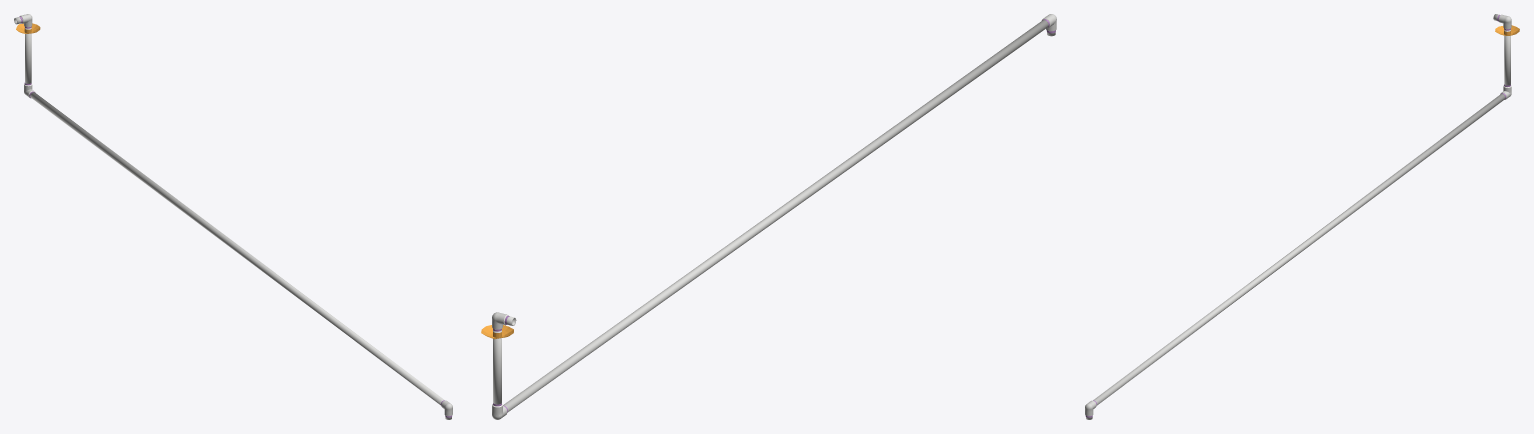
Rendered from pipes_dwv__water_heater-closet_gas_tank+closet_electric_tank.glb.
3 views of the same model, side by side, from view 1: azimuth 30°, elevation 25°; view 2: azimuth 150°, elevation 25°; view 3: azimuth 330°, elevation 25° (orthographic). The views are drawn at different scales.
Visible parts, largest first — view 1: pipe_dwv_pan_drain_wh_closet; view 2: pipe_dwv_pan_drain_wh_closet; view 3: pipe_dwv_pan_drain_wh_closet.
Boxes of the visible parts, left/top/right/bottom form: pipe_dwv_pan_drain_wh_closet: left=14, top=14, right=452, bottom=419; pipe_dwv_pan_drain_wh_closet: left=492, top=14, right=1056, bottom=419; pipe_dwv_pan_drain_wh_closet: left=1085, top=14, right=1511, bottom=419.
Size of the model in its own units: 0.1066 by 0.427 by 3.45.
